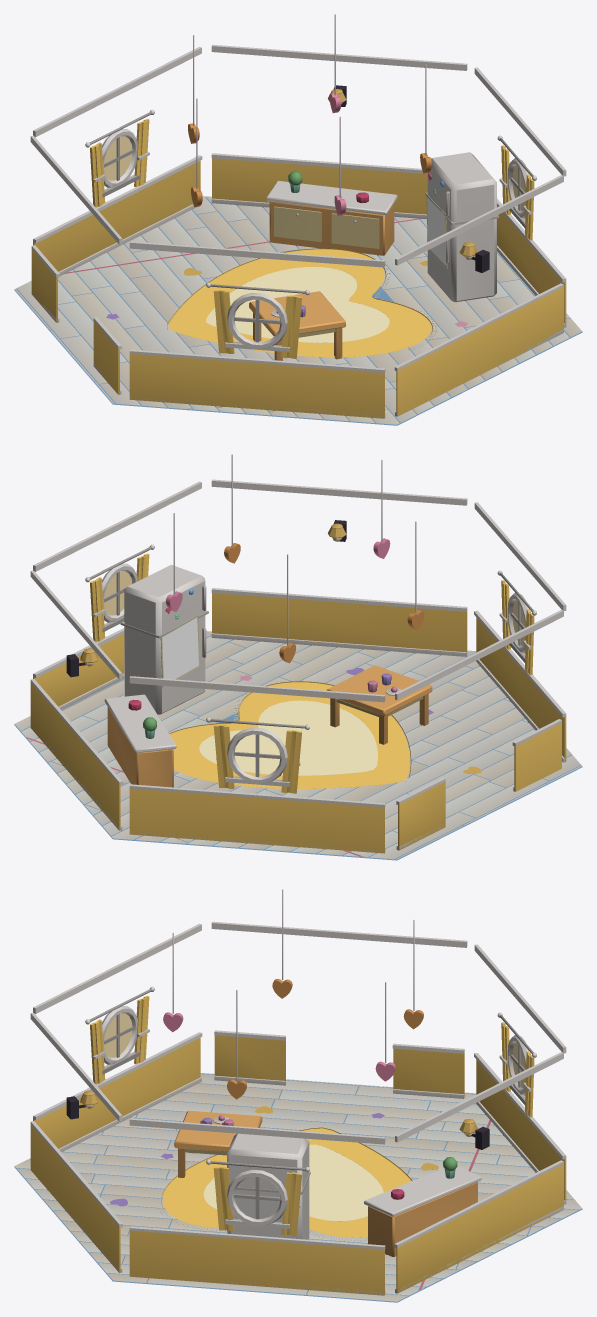
File: zon_room_note_lite.glb
3 renders of one model, top to bottom at view 1: azimuth 30°, elevation 25°; view 2: azimuth 150°, elevation 25°; view 3: azimuth 270°, elevation 25°, orthographic.
Visible parts, largest first — view 1: SM_zon_room_note_lite_room_floor_plaster_x0_z0, SM_zon_room_note_lite_room_floor_gloss_x0_z0, SM_zon_room_note_lite_room_rug_fabric_x0_z0, SM_zon_room_note_lite_room_floor_wood_x0_z0, SM_zon_room_note_lite_glow_vc_x0_z0, SCREEN_fur_fridge_note_note__0; view 2: SM_zon_room_note_lite_room_floor_plaster_x0_z0, SM_zon_room_note_lite_room_floor_gloss_x0_z0, SM_zon_room_note_lite_room_rug_fabric_x0_z0, SM_zon_room_note_lite_room_floor_wood_x0_z0, SCREEN_fur_fridge_note_note__0, SM_zon_room_note_lite_glow_vc_x0_z0; view 3: SM_zon_room_note_lite_room_floor_plaster_x0_z0, SM_zon_room_note_lite_room_floor_gloss_x0_z0, SM_zon_room_note_lite_room_rug_fabric_x0_z0, SM_zon_room_note_lite_room_floor_wood_x0_z0, SM_zon_room_note_lite_glow_vc_x0_z0.
Part boxes in pixels (x1,y1,x2,y2): SM_zon_room_note_lite_room_floor_plaster_x0_z0: (14,14,582,425); SM_zon_room_note_lite_room_floor_gloss_x0_z0: (31,118,566,418); SM_zon_room_note_lite_room_rug_fabric_x0_z0: (167,248,437,357); SM_zon_room_note_lite_room_floor_wood_x0_z0: (249,201,394,360); SM_zon_room_note_lite_glow_vc_x0_z0: (104,103,525,259); SCREEN_fur_fridge_note_note__0: (427,197,446,265); SM_zon_room_note_lite_room_floor_plaster_x0_z0: (14,454,582,860); SM_zon_room_note_lite_room_floor_gloss_x0_z0: (30,553,566,853); SM_zon_room_note_lite_room_rug_fabric_x0_z0: (169,680,411,788); SM_zon_room_note_lite_room_floor_wood_x0_z0: (107,665,432,787); SCREEN_fur_fridge_note_note__0: (162,617,198,679); SM_zon_room_note_lite_glow_vc_x0_z0: (84,537,525,666); SM_zon_room_note_lite_room_floor_plaster_x0_z0: (14,889,582,1302); SM_zon_room_note_lite_room_floor_gloss_x0_z0: (30,995,566,1295); SM_zon_room_note_lite_room_rug_fabric_x0_z0: (158,1127,412,1241); SM_zon_room_note_lite_room_floor_wood_x0_z0: (174,1110,477,1256); SM_zon_room_note_lite_glow_vc_x0_z0: (84,1013,525,1136).
Size of the model in its own units: 9.96 by 4.99 by 10.44.
